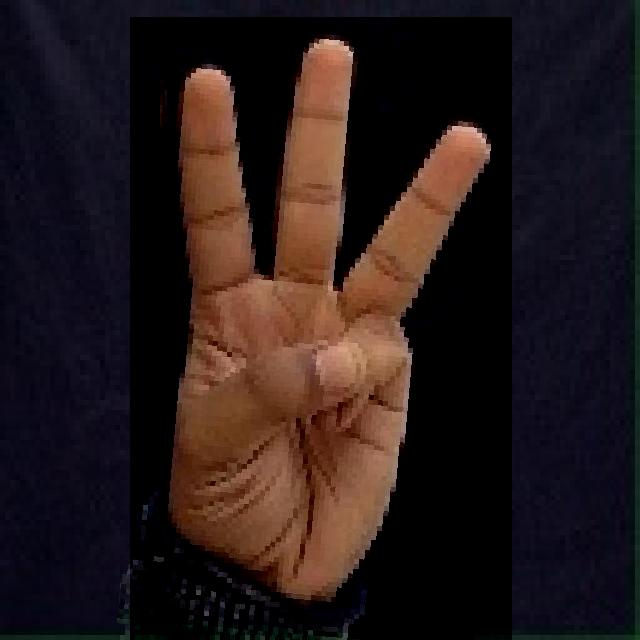Please: (130, 17, 512, 640)
